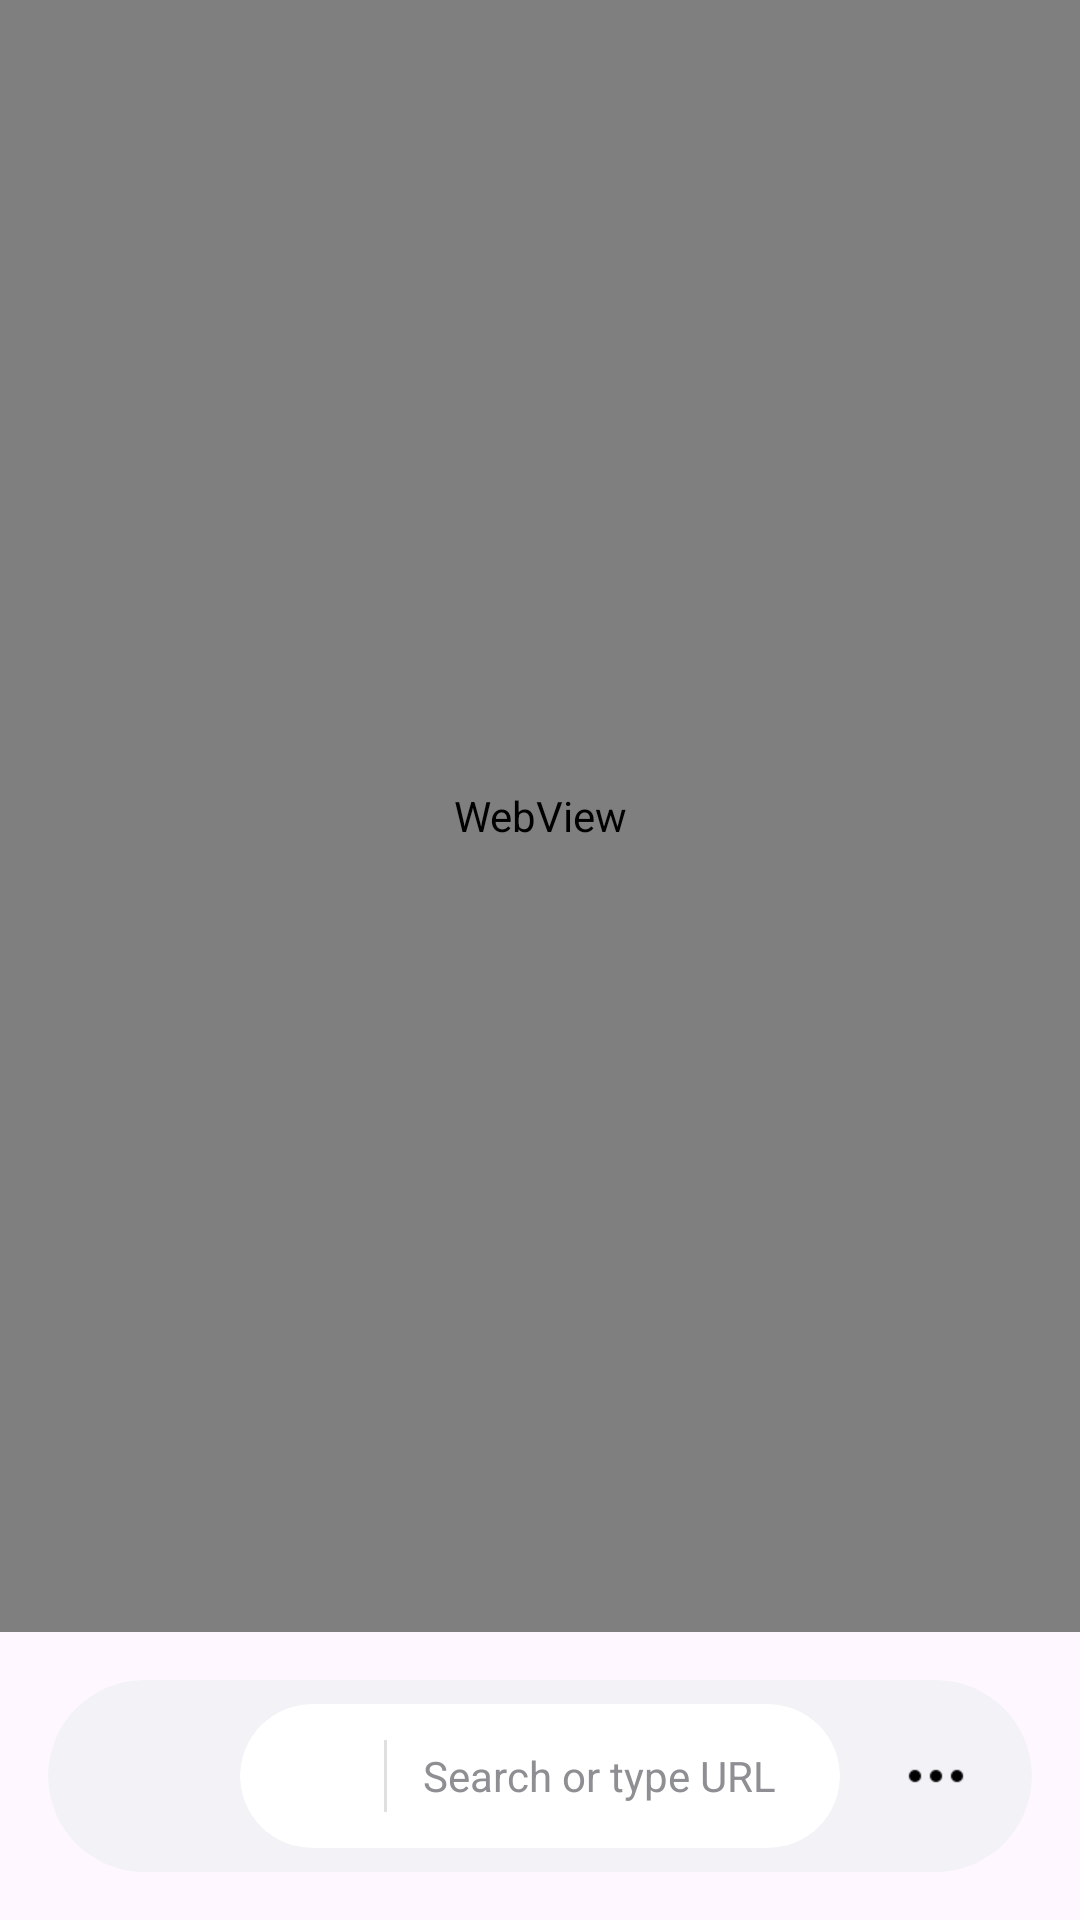

Screen size 1080x1920. Icon name, then its box in pixels as box=[x1, y1, x2, y2]:
Menu: box=[908, 1769, 964, 1783]
